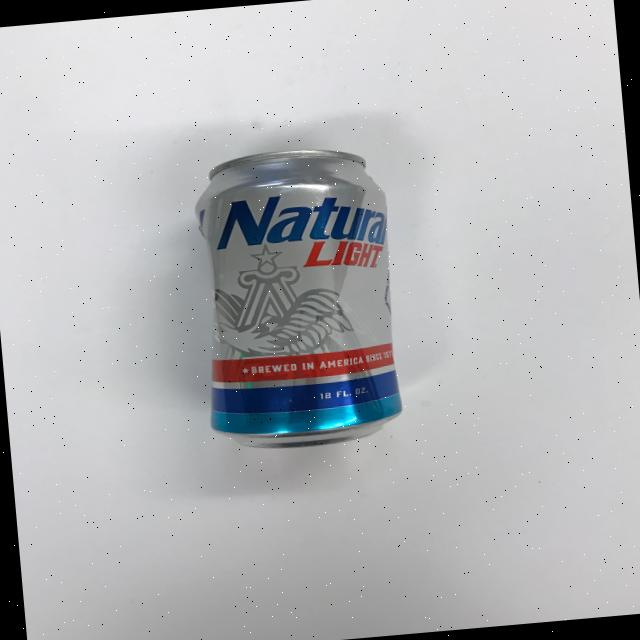metal: (185, 141, 408, 454)
